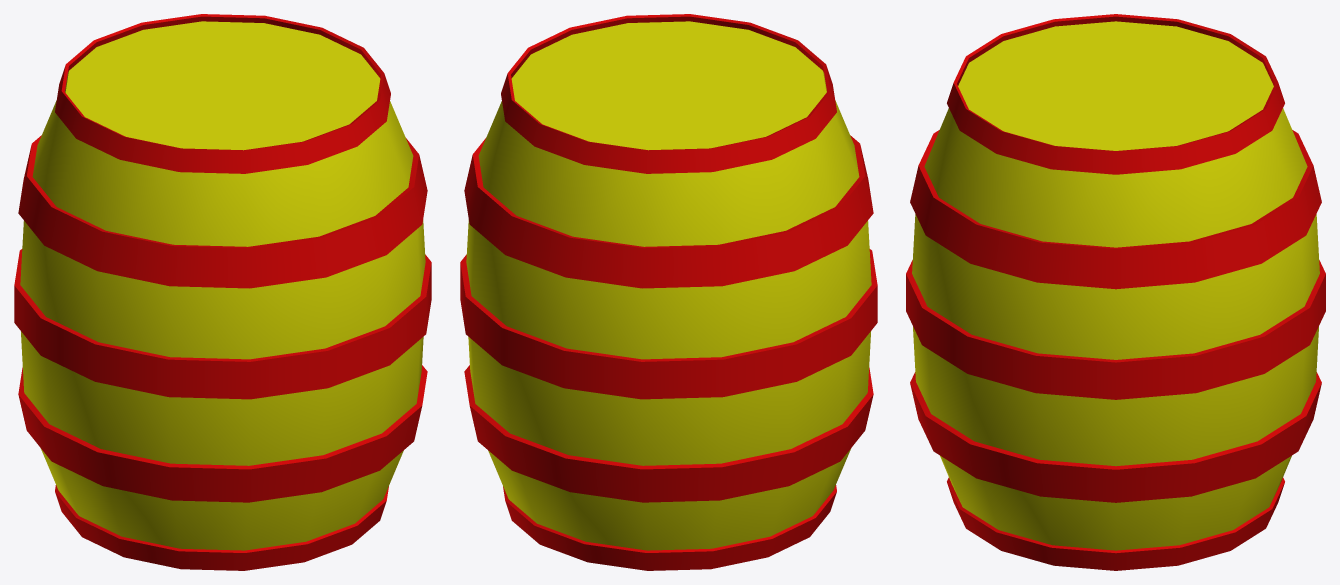
Rendered from Barrel.fbx.
The picture shows the model from 3 angles, left to right: view 1: azimuth 30°, elevation 25°; view 2: azimuth 150°, elevation 25°; view 3: azimuth 270°, elevation 25°; orthographic projection.
Visible parts, largest first — view 1: Barrel; view 2: Barrel; view 3: Barrel.
Part boxes in pixels (x1,y1,x2,y2): Barrel: (14, 14, 431, 570); Barrel: (460, 14, 877, 570); Barrel: (906, 14, 1325, 570).
Bounding box in the file's own units: 0.9013 × 0.9937 × 0.9013.
